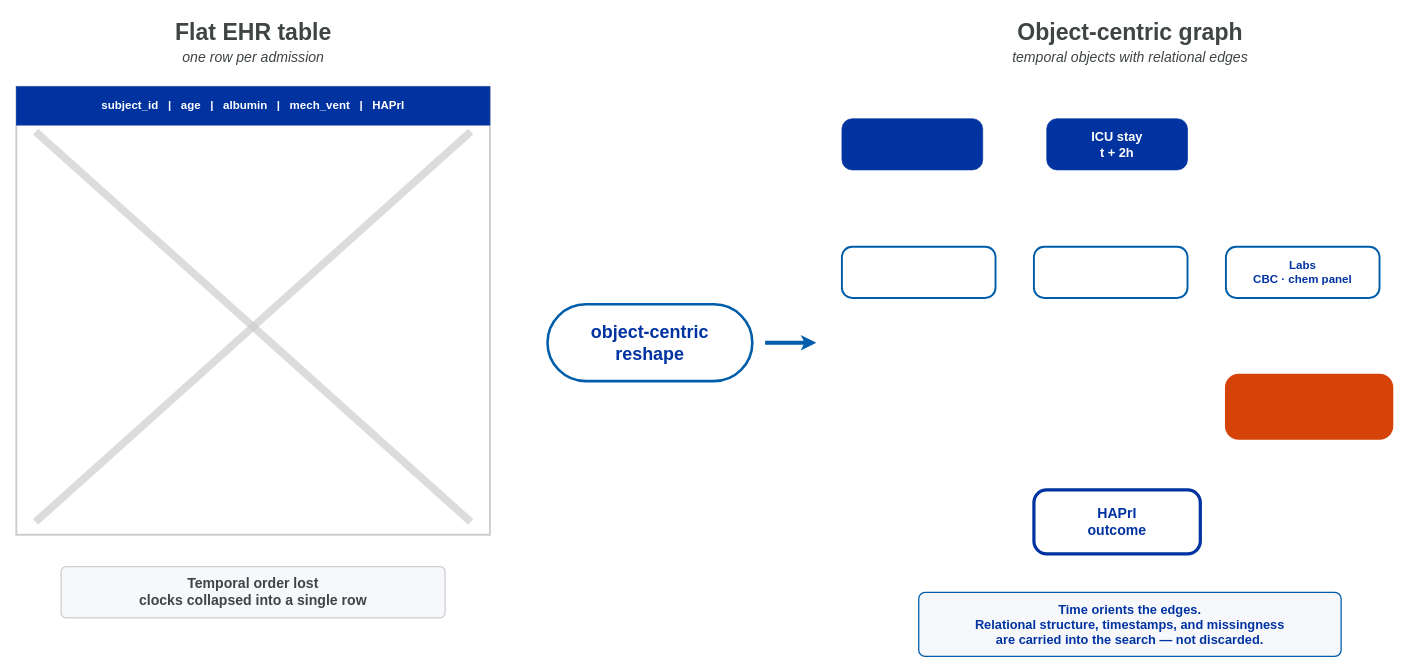
This 1404x668 diagram has some shape labels left out. The centre of each missing label's shape, as x and y in pixels:
"Admission t = 0h" belongs at point 912,144.
"Albumin lab value = 2.4 g/dL · t + 18h flagged for focused evaluation" belongs at point 1309,406.
"Medications pressors · diuretics" belongs at point 1110,272.
"Procedures intubation · catheter" belongs at point 918,272.
